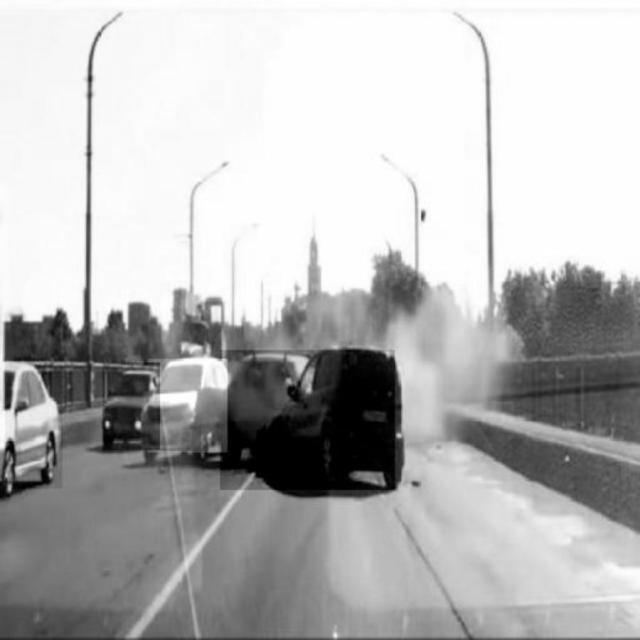accident: (220, 350, 395, 491)
vehicle: (148, 359, 228, 452), (5, 363, 62, 489), (103, 362, 160, 450)
